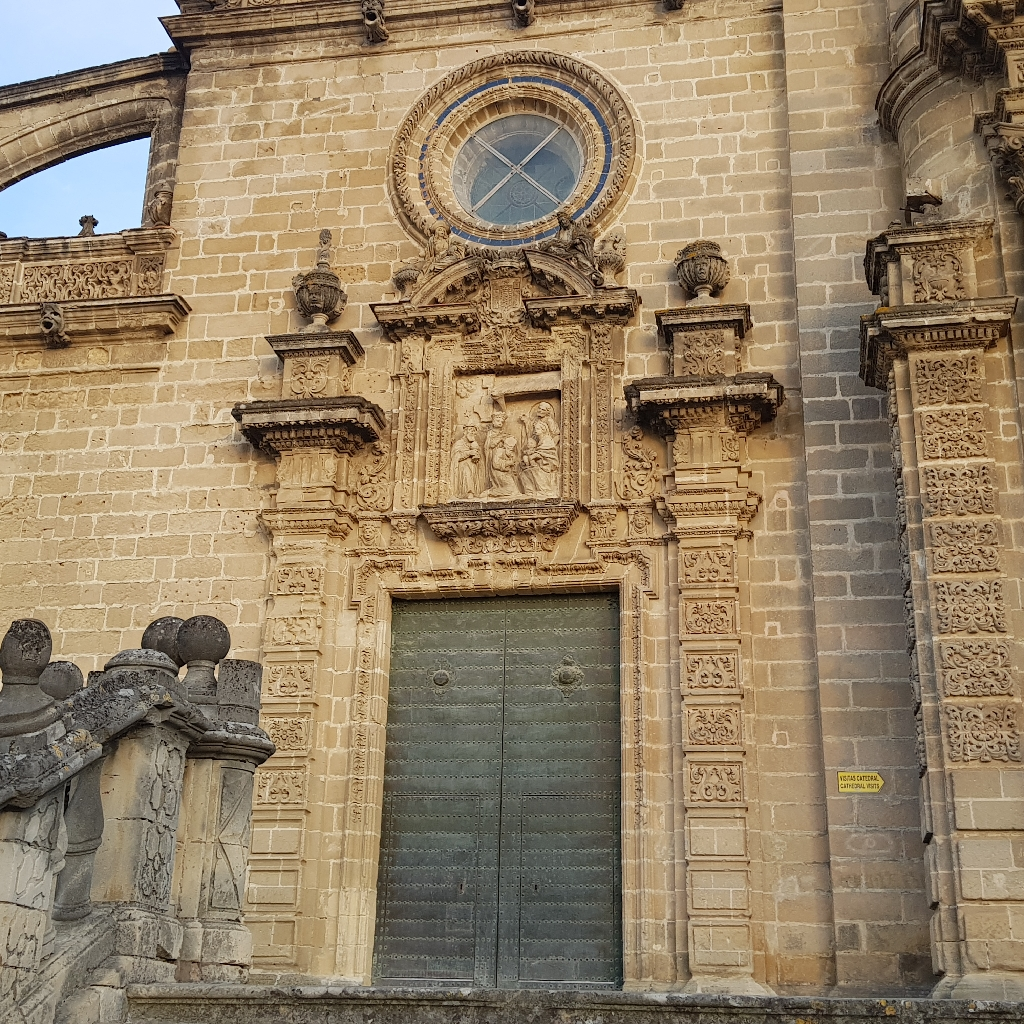fronton-partido: (404, 248, 600, 326)
ojo-de-buey: (414, 61, 627, 233)
vano-adintelado: (333, 549, 669, 985)
